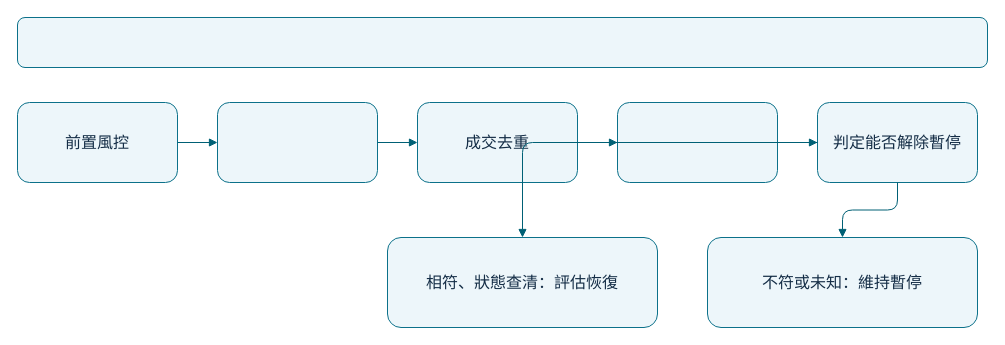
This 1005x345 diagram has some shape labels left out. Each missing label, with the box of its shape:
保留與記錄: (216, 102, 378, 182)
取一致點: (616, 102, 778, 182)
風控與對帳流程圖: (16, 16, 988, 68)
